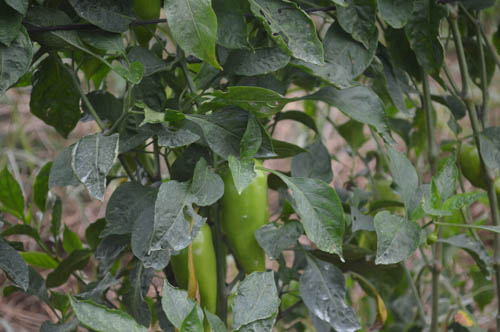ChiliPepper: (222, 169, 270, 270), (175, 223, 217, 308)
